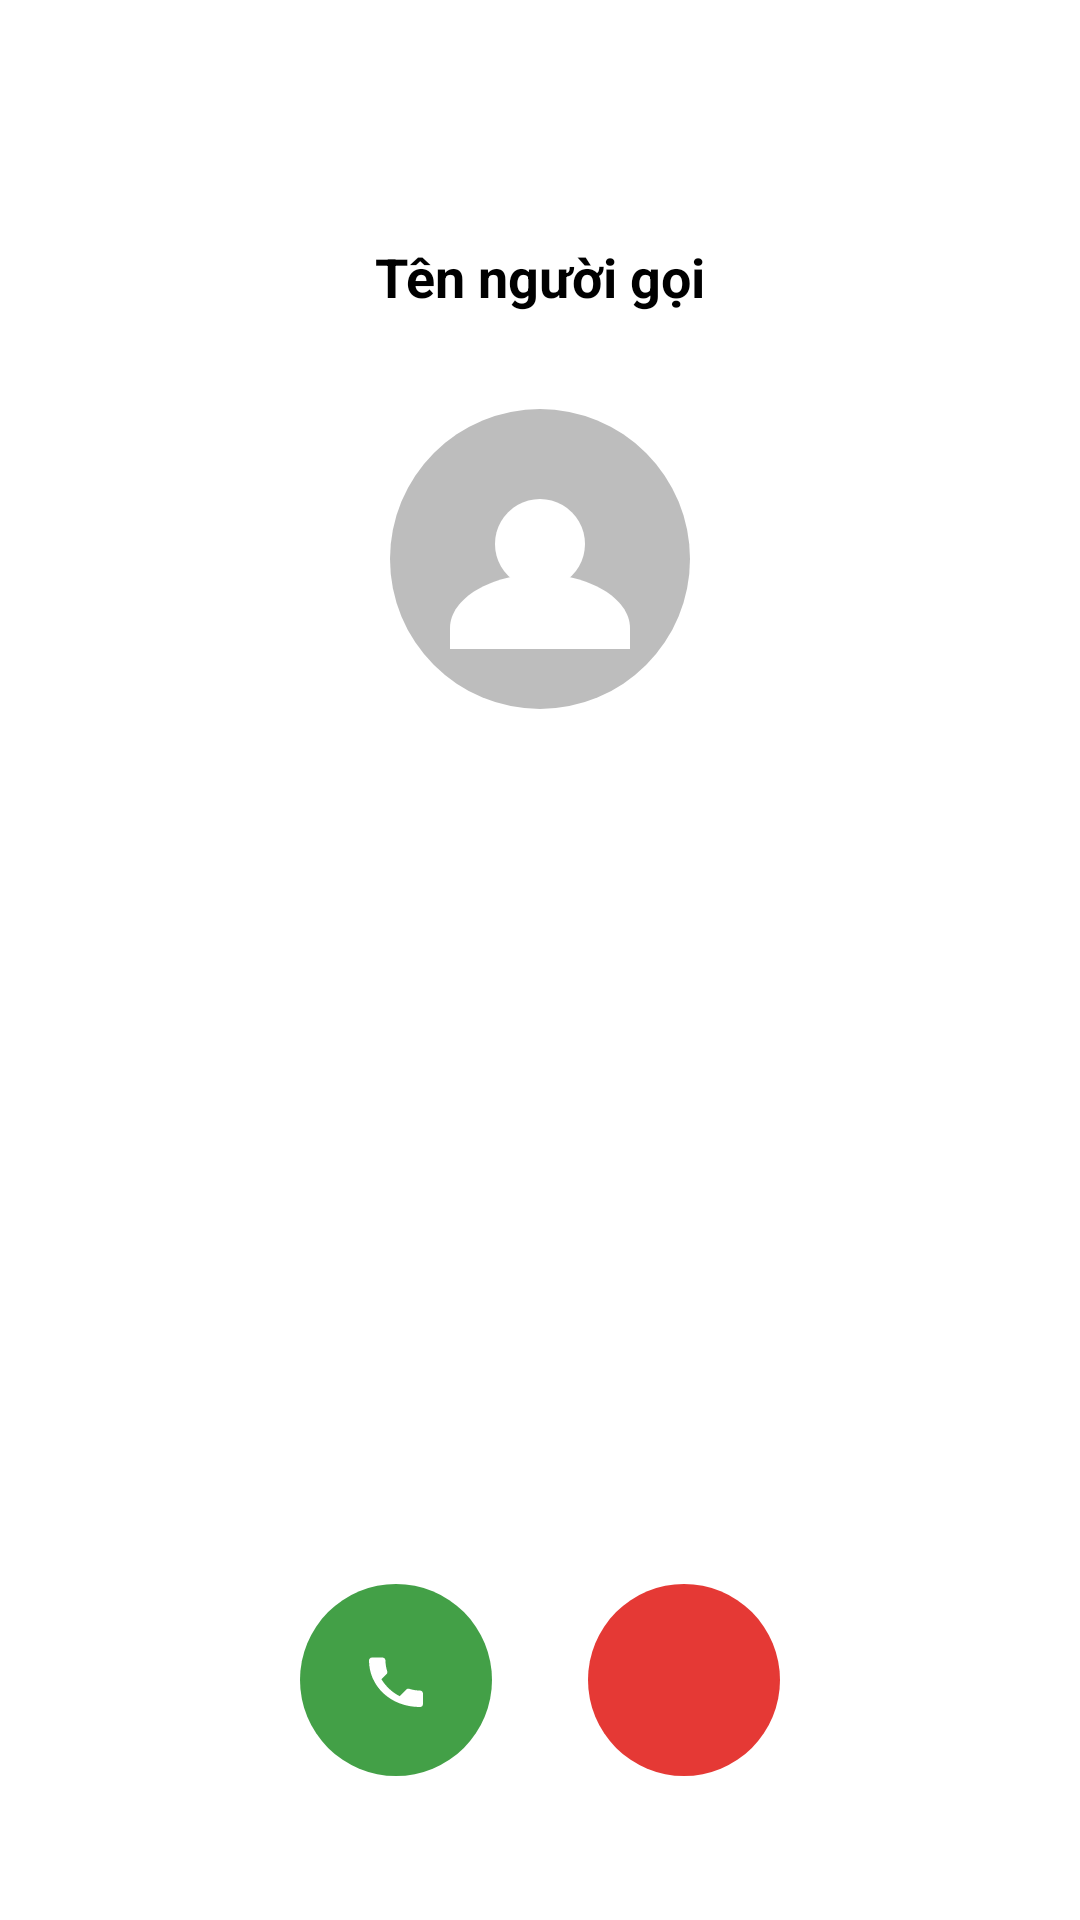

Named icons in this screenshot (1080 × 1920) and their centers, [x,y]:
Nhấc máy: [396,1680]
